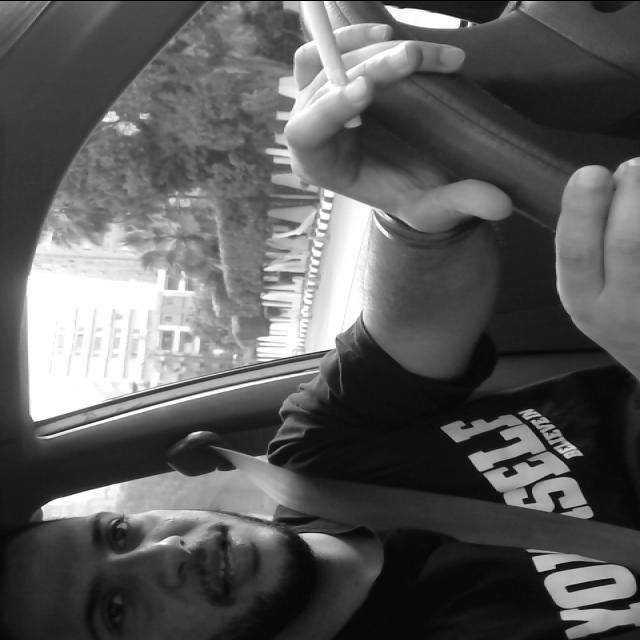smoking: (288, 0, 376, 131)
